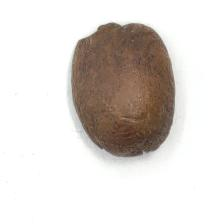NG: (74, 22, 144, 48)
